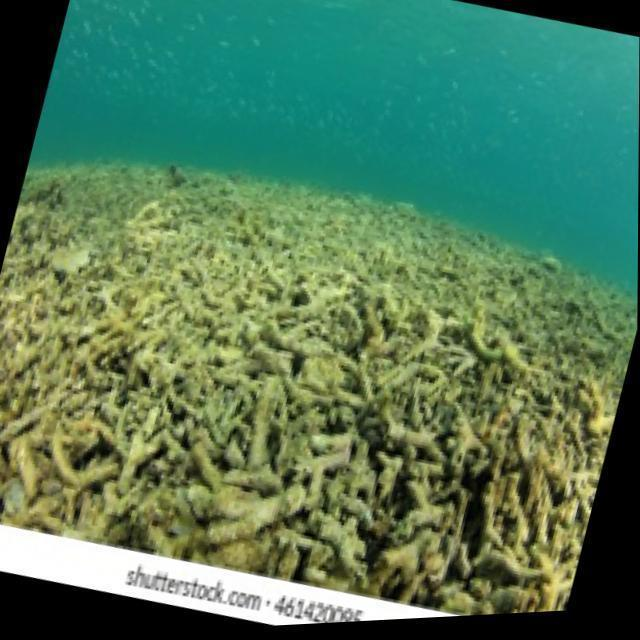Dead Coral: (0, 146, 639, 640), (98, 269, 573, 636)
